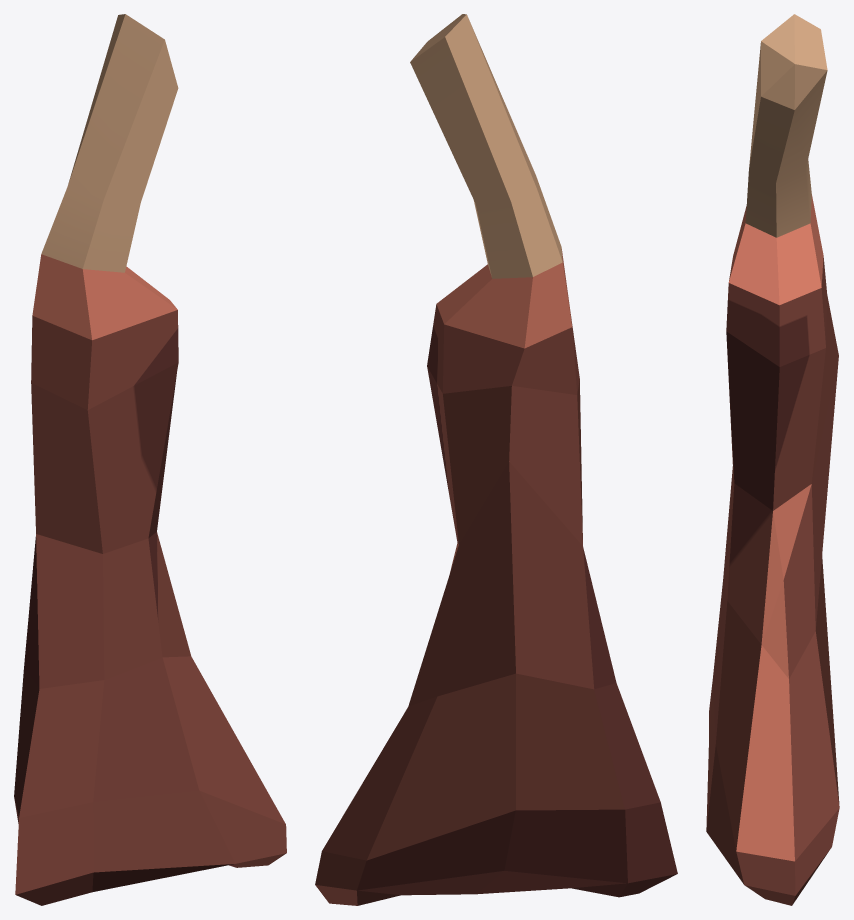
File: SM_Item_Meat_02.fbx
3 renders of one model, left to right at view 1: azimuth 30°, elevation 25°; view 2: azimuth 150°, elevation 25°; view 3: azimuth 270°, elevation 25°, orthographic. The views are drawn at different scales.
Parts seen in each view (by area): view 1: SM_Item_Meat_02; view 2: SM_Item_Meat_02; view 3: SM_Item_Meat_02.
Part boxes in pixels (x1,y1,x2,y2): SM_Item_Meat_02: (14, 14, 286, 905); SM_Item_Meat_02: (315, 14, 677, 905); SM_Item_Meat_02: (706, 14, 839, 905).
Bounding box in the file's own units: 31.71 × 88.92 × 12.92.
